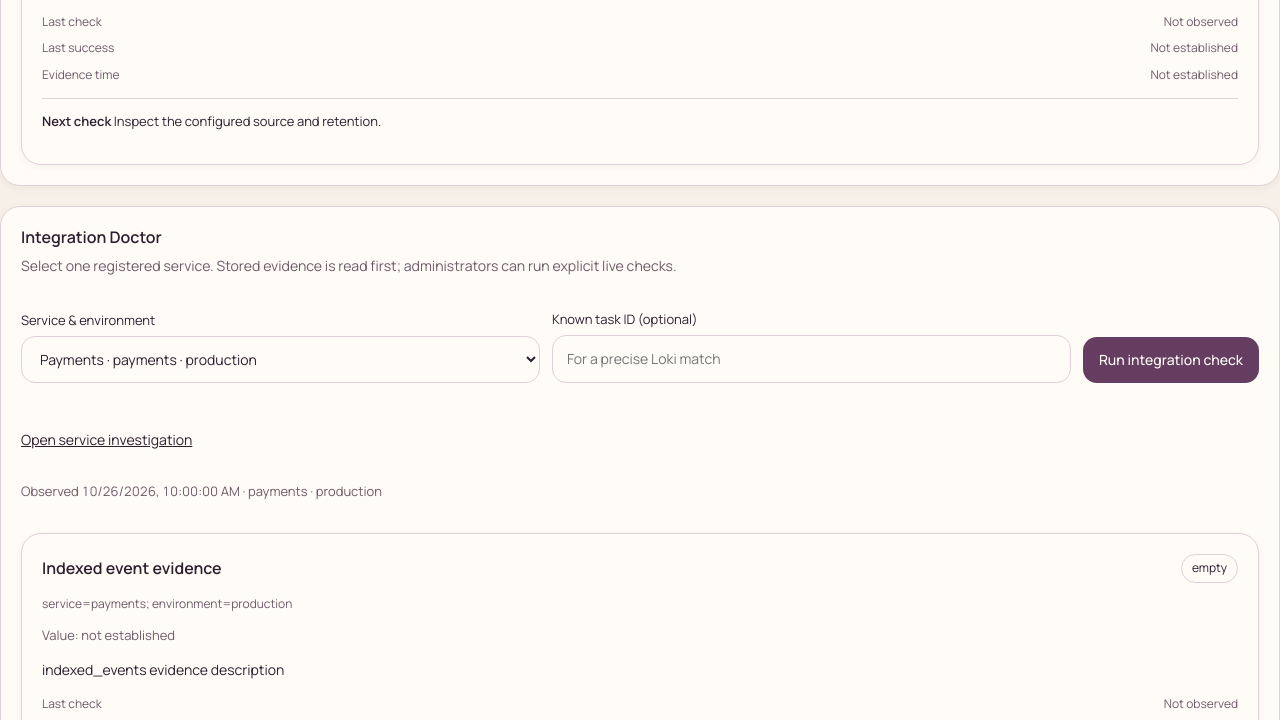
Scenario: shows active probe failures ({})
The width and height of the screenshot is (1280, 720).
(page scrolled)
Check: the text "indexed_events evidence description" is shown, box [42,660,284,679]
Click the button "Run integration check" at (1171, 360), box [1083,337,1259,383]
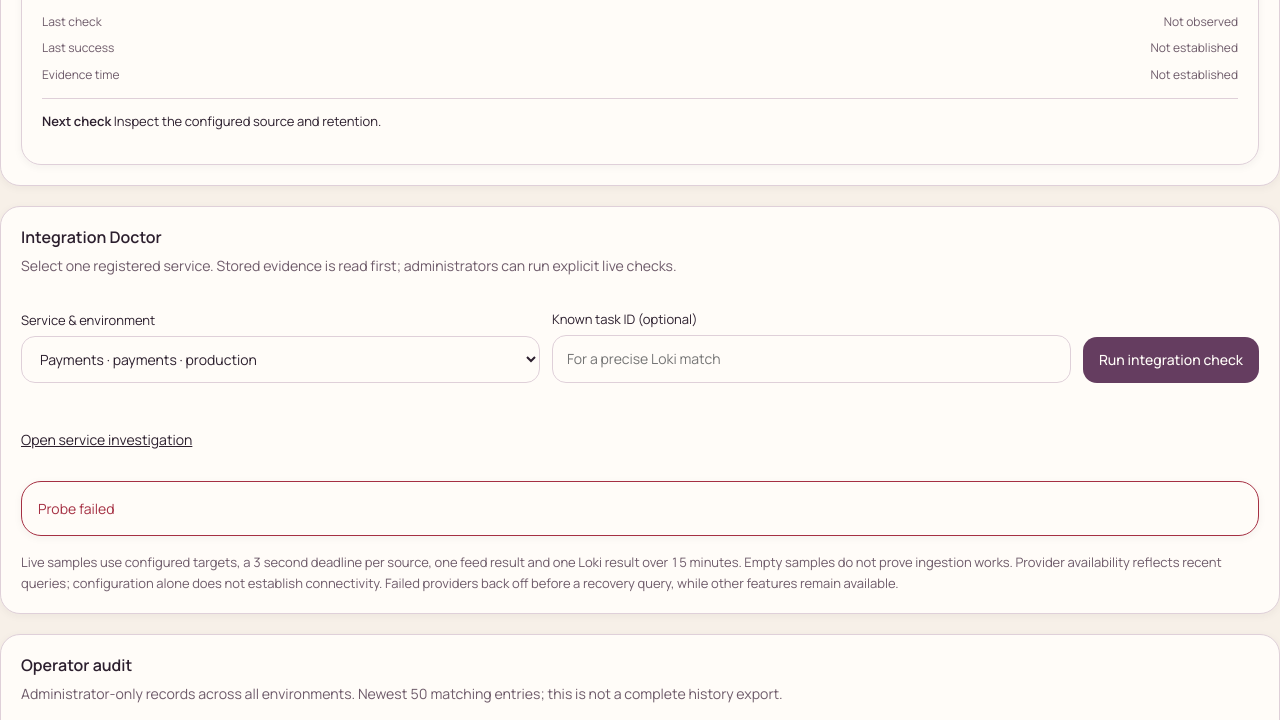
Check: the text "Probe failed" is shown, box [21,481,1259,536]
